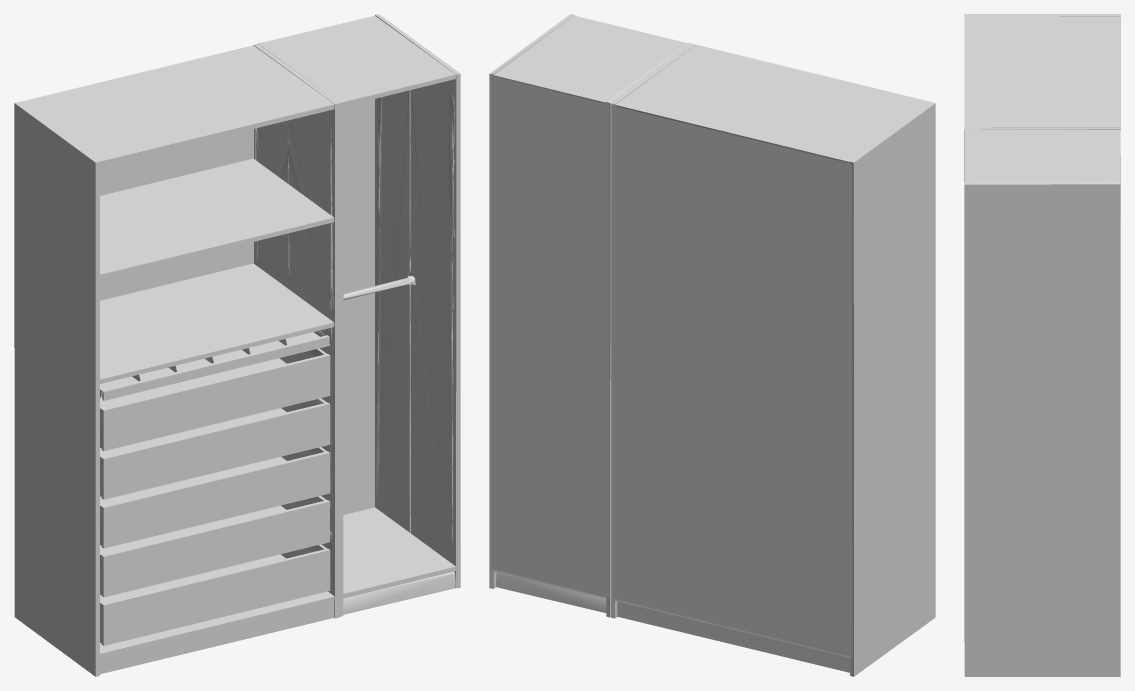
Rendered from pax_szafa_89227873.glb.
3 views of the same model, side by side, from view 1: azimuth 30°, elevation 25°; view 2: azimuth 150°, elevation 25°; view 3: azimuth 270°, elevation 25° (orthographic). The views are drawn at different scales.
Visible parts, largest first — view 1: pax_szafa_89227873; view 2: pax_szafa_89227873; view 3: pax_szafa_89227873.
Boxes of the visible parts, x1,y1,x2,y2 form: pax_szafa_89227873: (14,14,460,676); pax_szafa_89227873: (489,14,935,676); pax_szafa_89227873: (964,14,1120,676).
Size of the model in its own units: 1.49 by 2.01 by 0.5795.
Materials: 1 (1 with a texture image).
